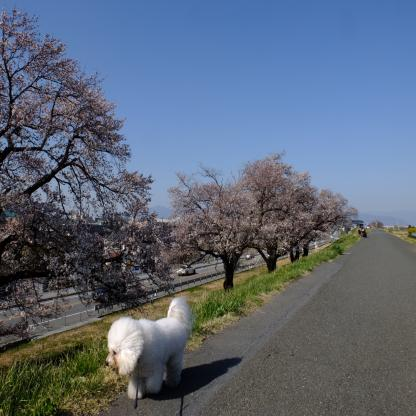Someiyoshino: (3, 10, 176, 326), (171, 155, 359, 262)
